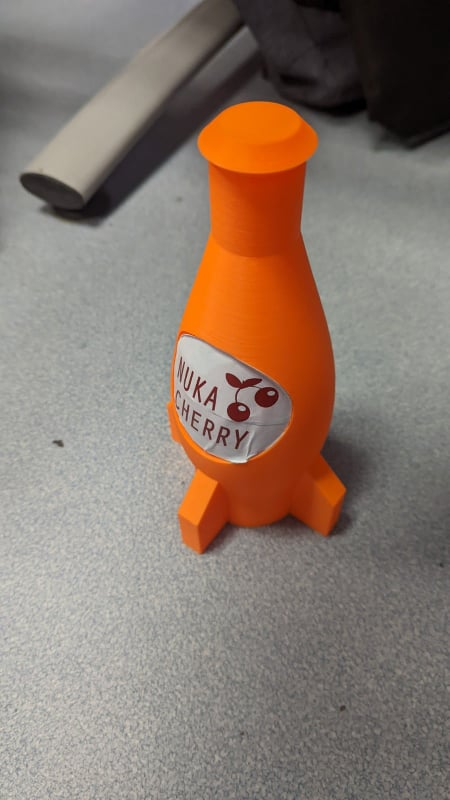bottle: (160, 91, 355, 555)
